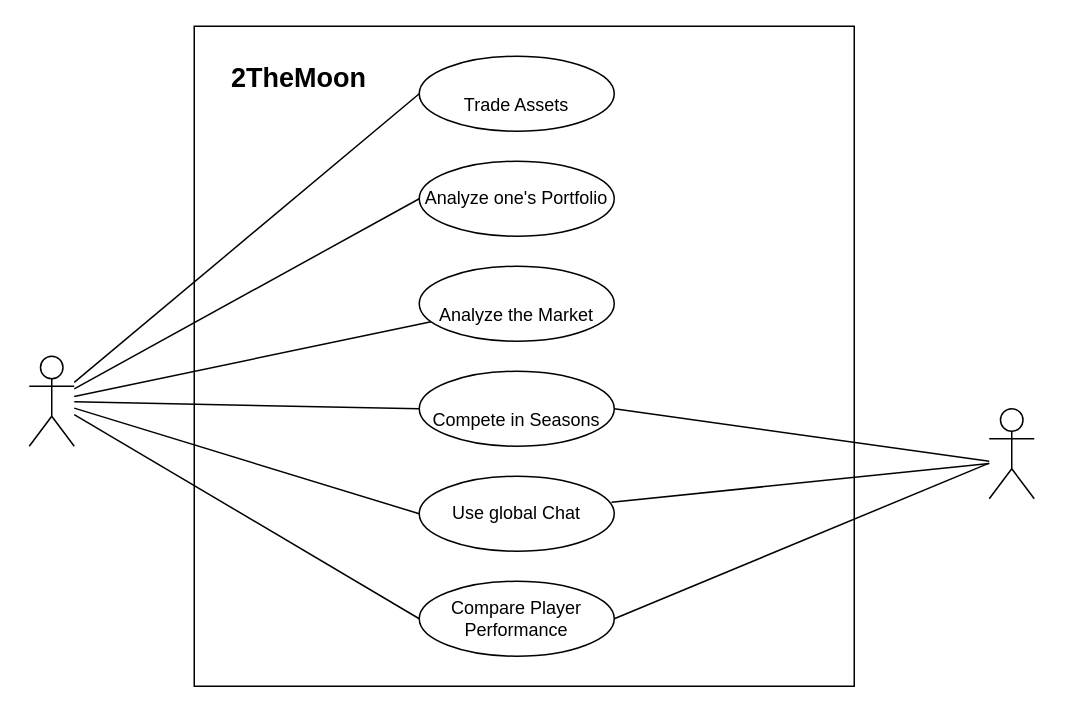
The diagram is 1092 pixels wide and 713 high, and some of its shapes have lost their labels. Each missing label, with the centre of its shape:
Other Players: the point at 1011,453
Player: the point at 51,400
